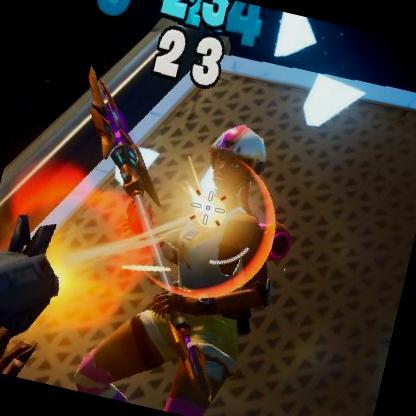person: (125, 121, 289, 416)
